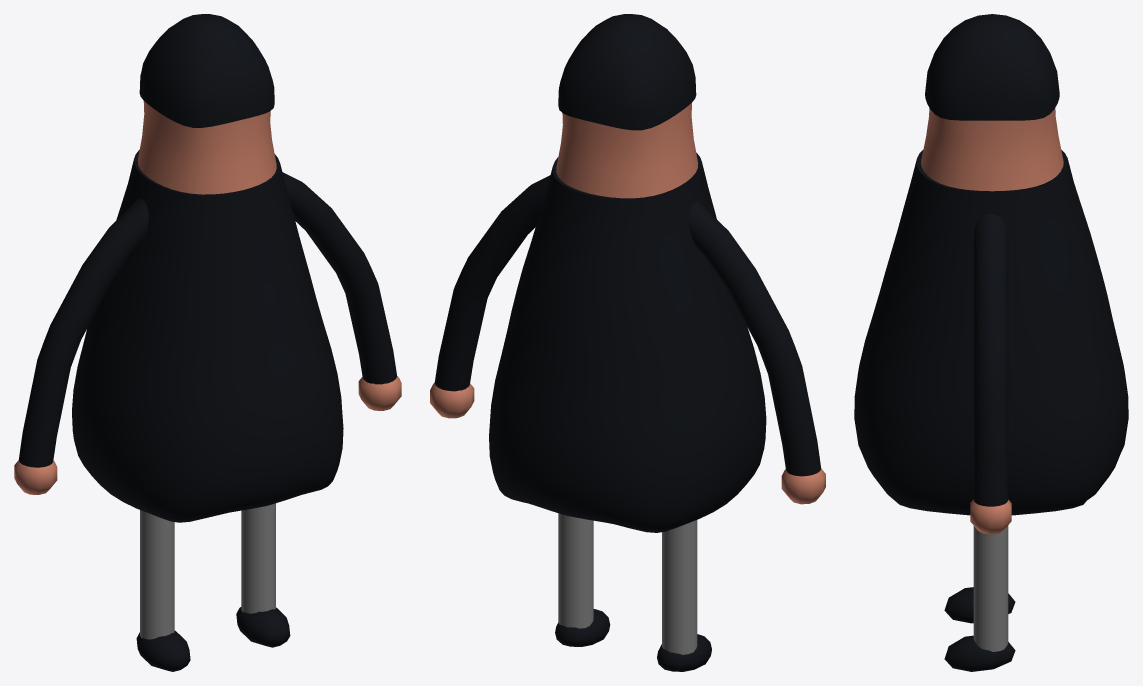
The model's file is Thief.fbx.
3 renders of one model, left to right at view 1: azimuth 30°, elevation 25°; view 2: azimuth 150°, elevation 25°; view 3: azimuth 270°, elevation 25°, orthographic. The views are drawn at different scales.
Visible parts, largest first — view 1: Box001; view 2: Box001; view 3: Box001.
Part boxes in pixels (bbox=[...]): Box001: bbox=[14, 14, 401, 671]; Box001: bbox=[430, 14, 825, 671]; Box001: bbox=[854, 14, 1128, 671].
Size of the model in its own units: 38.27 by 60.06 by 23.87.
